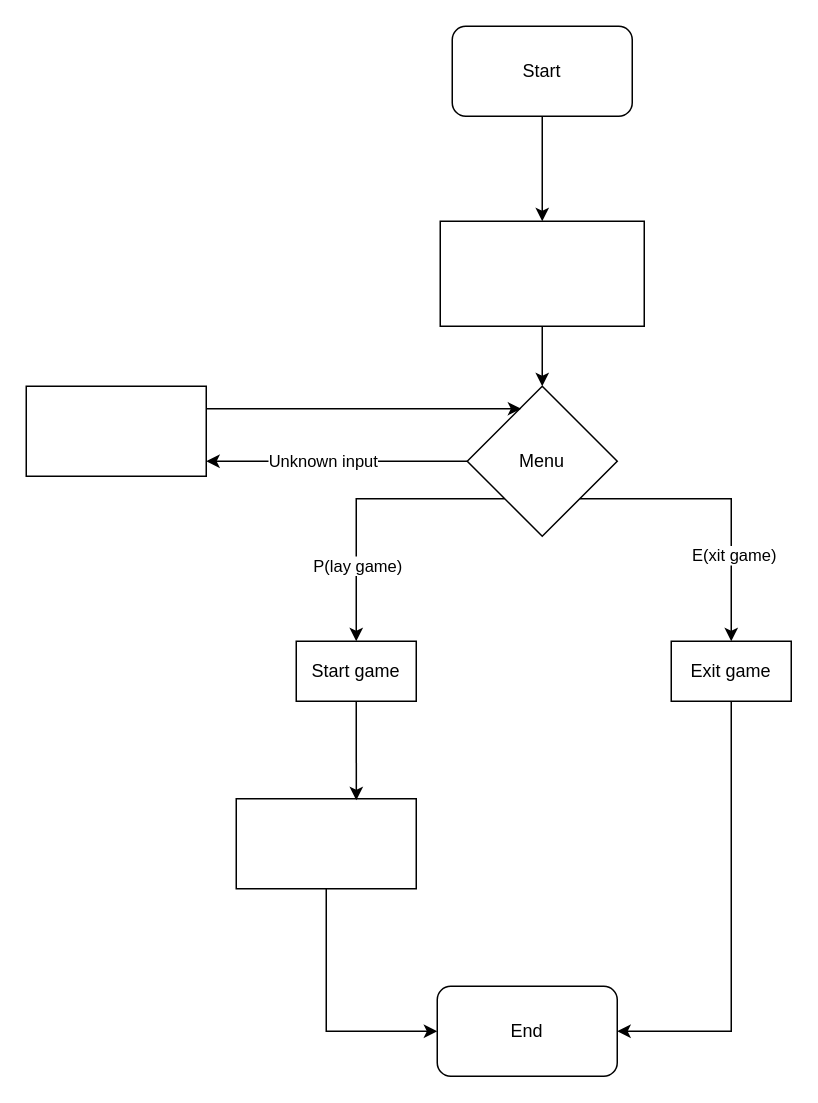
The diagram is 818 pixels wide and 1103 high, and some of its shapes have lost their labels. Here are the shapes that lost their labels. From the top down, the centre of each, then its label:
point (541, 273): Welcome message
point (115, 430): Error message
point (325, 843): Run game
